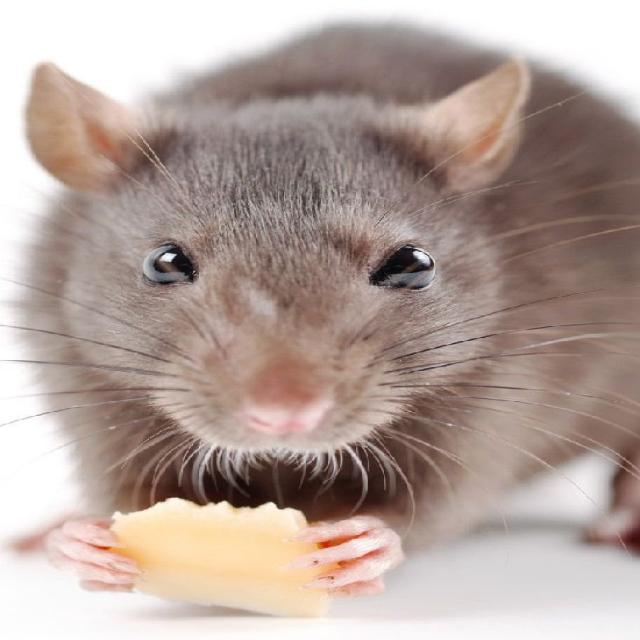rat: (16, 23, 639, 593)
